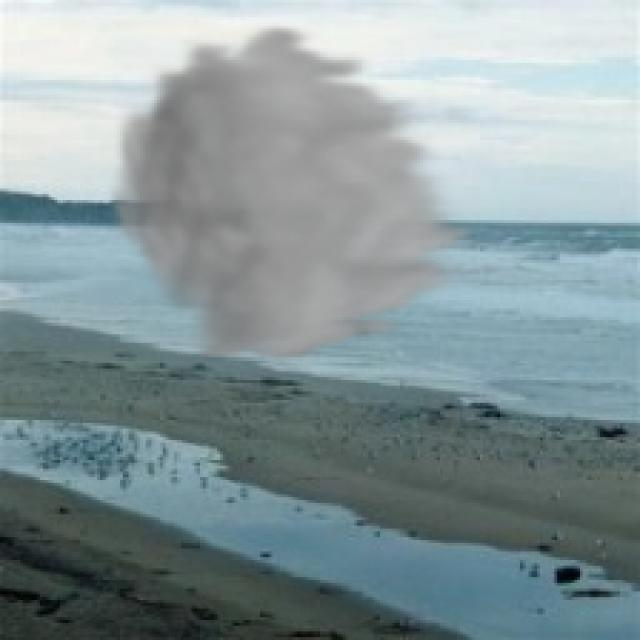smoke: (103, 20, 488, 366)
